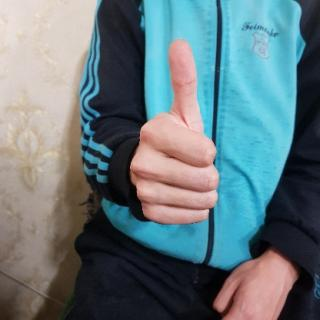ALIF: (130, 34, 226, 234)
